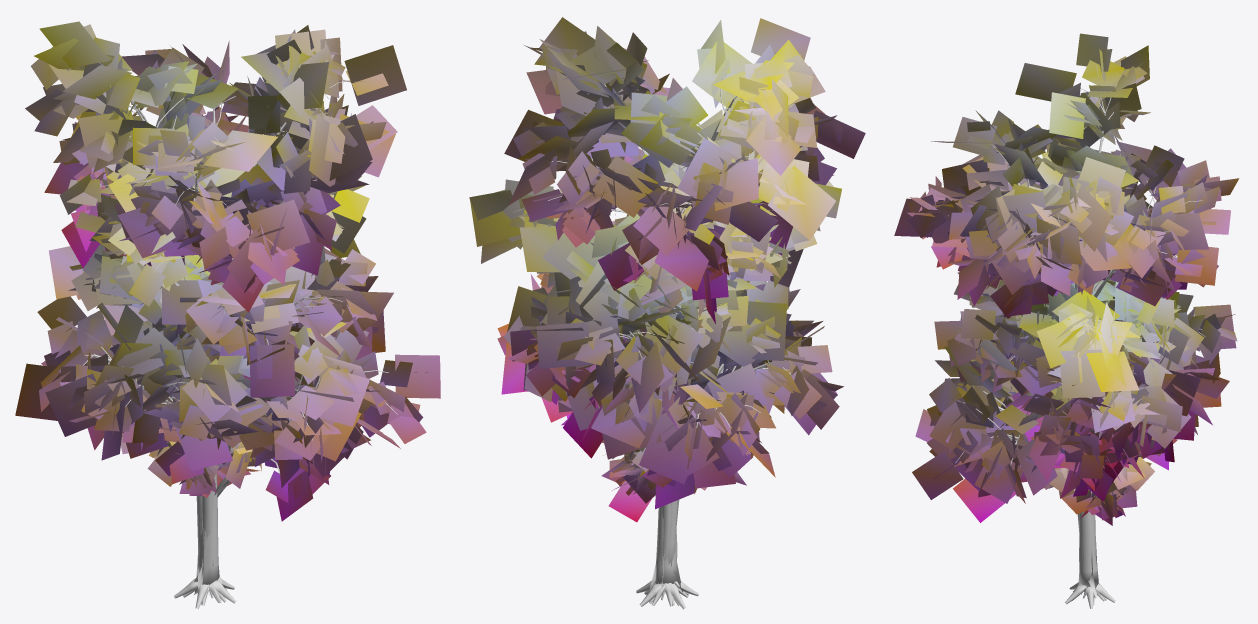
Rendered from real_trees.glb.
3 renders of one model, left to right at view 1: azimuth 30°, elevation 25°; view 2: azimuth 150°, elevation 25°; view 3: azimuth 270°, elevation 25°, orthographic. The views are drawn at different scales.
Visible parts, largest first — view 1: RealBeech_A_FarLeaves, RealBeech_A_Leaves, RealOak_Leaves, RealOak_FarLeaves, RealBeech_B_Leaves, RealBeech_B_FarLeaves, RealMaple_FarLeaves, RealMaple_Leaves, RealOak_Bark, RealYoung_FarLeaves, RealBeech_A_Bark, RealYoung_Leaves (+1 smaller); view 2: RealBeech_A_FarLeaves, RealBeech_A_Leaves, RealOak_FarLeaves, RealMaple_FarLeaves, RealOak_Leaves, RealMaple_Leaves, RealBeech_B_FarLeaves, RealBeech_B_Leaves, RealYoung_FarLeaves, RealOak_Bark, RealBeech_A_Bark, RealMaple_Bark (+1 smaller); view 3: RealBeech_A_FarLeaves, RealBeech_A_Leaves, RealOak_FarLeaves, RealOak_Leaves, RealBeech_B_FarLeaves, RealMaple_FarLeaves, RealMaple_Leaves, RealBeech_B_Leaves, RealYoung_FarLeaves, RealOak_Bark, RealYoung_Leaves, RealBeech_A_Bark.
Boxes of the visible parts, box(x1,y1,x2,y2) form: RealBeech_A_FarLeaves: box(34, 21, 406, 312); RealBeech_A_Leaves: box(25, 24, 388, 294); RealOak_Leaves: box(37, 176, 427, 502); RealOak_FarLeaves: box(15, 193, 440, 521); RealBeech_B_Leaves: box(59, 159, 377, 384); RealBeech_B_FarLeaves: box(90, 124, 393, 397); RealMaple_FarLeaves: box(49, 231, 385, 374); RealMaple_Leaves: box(68, 227, 268, 401); RealOak_Bark: box(83, 346, 397, 608); RealYoung_FarLeaves: box(120, 436, 261, 494); RealBeech_A_Bark: box(99, 62, 349, 605); RealYoung_Leaves: box(149, 441, 254, 497); RealBeech_A_FarLeaves: box(504, 17, 865, 323); RealBeech_A_Leaves: box(513, 31, 843, 300); RealOak_FarLeaves: box(469, 179, 843, 509); RealMaple_FarLeaves: box(501, 181, 841, 429); RealOak_Leaves: box(504, 189, 837, 486); RealMaple_Leaves: box(497, 187, 820, 414); RealBeech_B_FarLeaves: box(507, 101, 835, 458); RealBeech_B_Leaves: box(510, 140, 811, 417); RealYoung_FarLeaves: box(601, 450, 746, 522); RealOak_Bark: box(513, 207, 791, 609); RealBeech_A_Bark: box(548, 72, 765, 605); RealMaple_Bark: box(619, 289, 690, 606); RealBeech_A_FarLeaves: box(894, 45, 1239, 306); RealBeech_A_Leaves: box(907, 33, 1221, 318); RealOak_FarLeaves: box(912, 290, 1198, 522); RealOak_Leaves: box(915, 295, 1196, 498); RealBeech_B_FarLeaves: box(934, 137, 1229, 483); RealMaple_FarLeaves: box(1010, 281, 1236, 501); RealMaple_Leaves: box(995, 280, 1237, 496); RealBeech_B_Leaves: box(947, 154, 1220, 468); RealYoung_FarLeaves: box(1044, 457, 1154, 525); RealOak_Bark: box(955, 318, 1127, 608); RealYoung_Leaves: box(1042, 457, 1142, 520); RealBeech_A_Bark: box(989, 65, 1202, 600).
Bounding box in the file's own units: 18.3 × 30.19 × 18.12.
